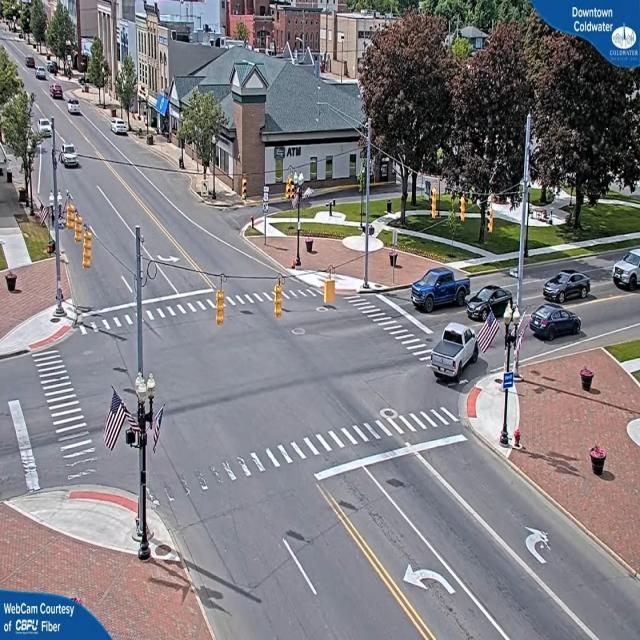car: (431, 324, 480, 384), (410, 266, 469, 311), (529, 302, 582, 341), (468, 282, 515, 324), (545, 270, 593, 303), (612, 250, 640, 291), (60, 144, 78, 169), (112, 121, 131, 138), (39, 120, 55, 140), (51, 84, 66, 100), (66, 98, 80, 115), (34, 66, 48, 80)
